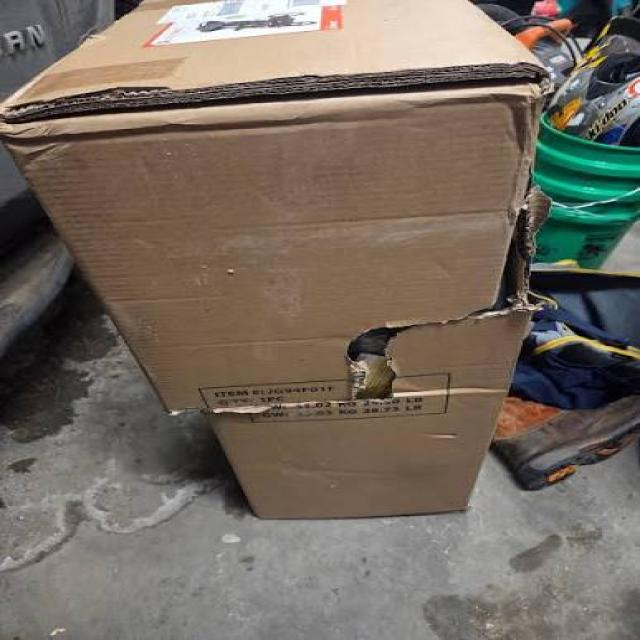package_damage: (147, 146, 552, 431)
